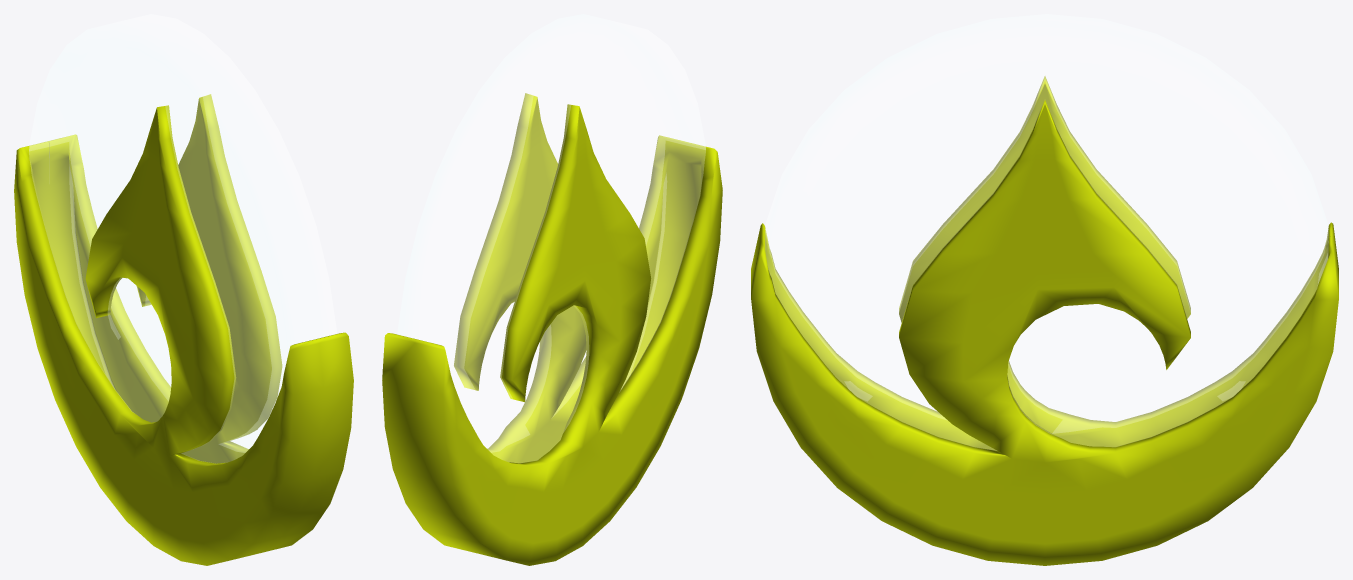
The model's file is proyectil_player.glb.
The picture shows the model from 3 angles, left to right: view 1: azimuth 30°, elevation 25°; view 2: azimuth 150°, elevation 25°; view 3: azimuth 270°, elevation 25°; orthographic projection. The views are drawn at different scales.
Visible parts, largest first — view 1: Coin, Crystal; view 2: Coin, Crystal; view 3: Crystal, Coin.
Part boxes in pixels (bbox=[...]): Coin: bbox=[14, 94, 353, 565]; Crystal: bbox=[29, 14, 336, 463]; Coin: bbox=[382, 93, 722, 565]; Crystal: bbox=[397, 14, 705, 462]; Crystal: bbox=[765, 14, 1328, 450]; Coin: bbox=[751, 76, 1338, 565].
Size of the model in its own units: 0.3378 by 2.37 by 2.4.
